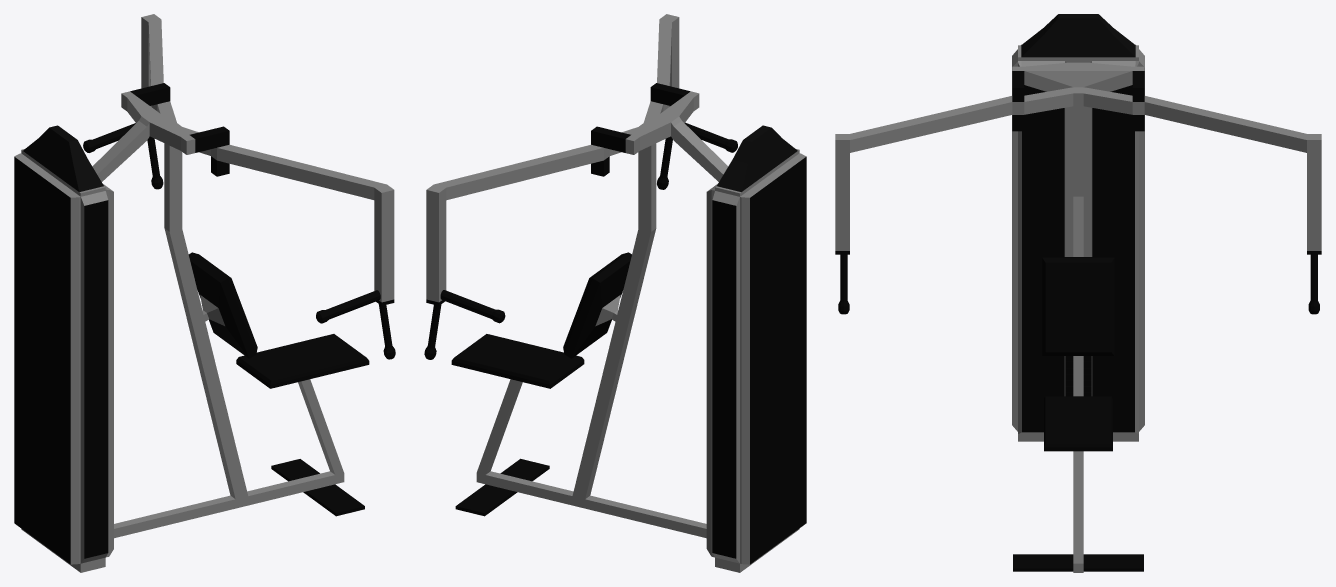
File: PeckFlyMachine.001.fbx
3 views of the same model, side by side, from view 1: azimuth 30°, elevation 25°; view 2: azimuth 150°, elevation 25°; view 3: azimuth 270°, elevation 25° (orthographic).
Visible parts, largest first — view 1: PeckFlyMachine.001; view 2: PeckFlyMachine.001; view 3: PeckFlyMachine.001.
Boxes of the visible parts, box(x1,y1,x2,y2) form: PeckFlyMachine.001: box(14, 14, 395, 572); PeckFlyMachine.001: box(424, 14, 806, 572); PeckFlyMachine.001: box(835, 14, 1321, 572).
Size of the model in its own units: 137 by 176 by 184.
